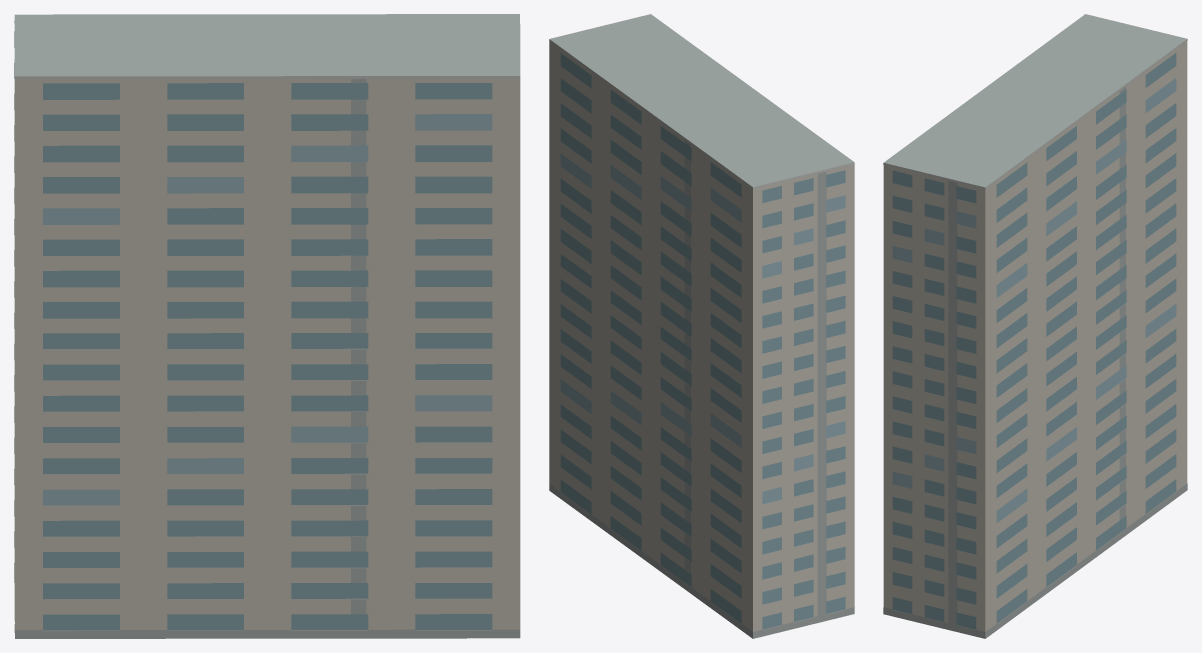
Rendered from residential-b62a8e9f-a62d-4e12-9818-31cfe0610017.glb.
The picture shows the model from 3 angles, left to right: view 1: azimuth 30°, elevation 25°; view 2: azimuth 150°, elevation 25°; view 3: azimuth 270°, elevation 25°; orthographic projection. The views are drawn at different scales.
Visible parts, largest first — view 1: residential-b62a8e9f-a62d-4e12-9818-31cfe0610017.tmp; view 2: residential-b62a8e9f-a62d-4e12-9818-31cfe0610017.tmp; view 3: residential-b62a8e9f-a62d-4e12-9818-31cfe0610017.tmp.
Boxes of the visible parts, left/top/right/bottom form: residential-b62a8e9f-a62d-4e12-9818-31cfe0610017.tmp: left=14, top=14, right=520, bottom=638; residential-b62a8e9f-a62d-4e12-9818-31cfe0610017.tmp: left=549, top=14, right=854, bottom=638; residential-b62a8e9f-a62d-4e12-9818-31cfe0610017.tmp: left=883, top=14, right=1187, bottom=638.
Size of the model in its own units: 39.56 by 48 by 29.3.
